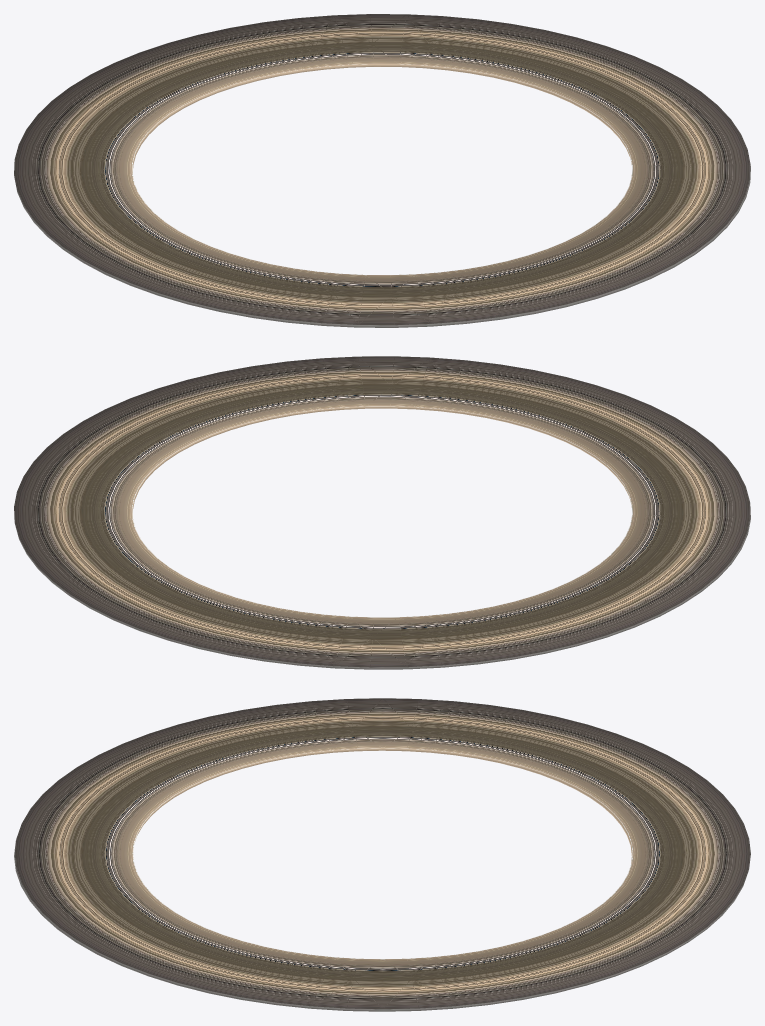
Rendered from rings_saturn.glb.
3 renders of one model, top to bottom at view 1: azimuth 30°, elevation 25°; view 2: azimuth 150°, elevation 25°; view 3: azimuth 270°, elevation 25°, orthographic.
Parts seen in each view (by area): view 1: Saturn; view 2: Saturn; view 3: Saturn.
Boxes of the visible parts, x1,y1,x2,y2 form: Saturn: [14, 14, 750, 327]; Saturn: [14, 356, 750, 669]; Saturn: [14, 698, 750, 1011].
Bounding box in the file's own units: 23.61 × 0.0923 × 23.63.
Materials: 1 (1 with a texture image).
